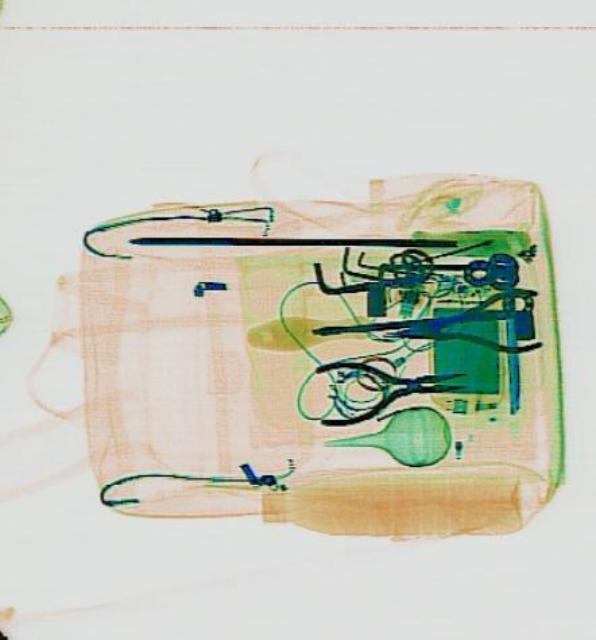Pliers: (385, 284, 540, 364), (310, 348, 465, 426)
